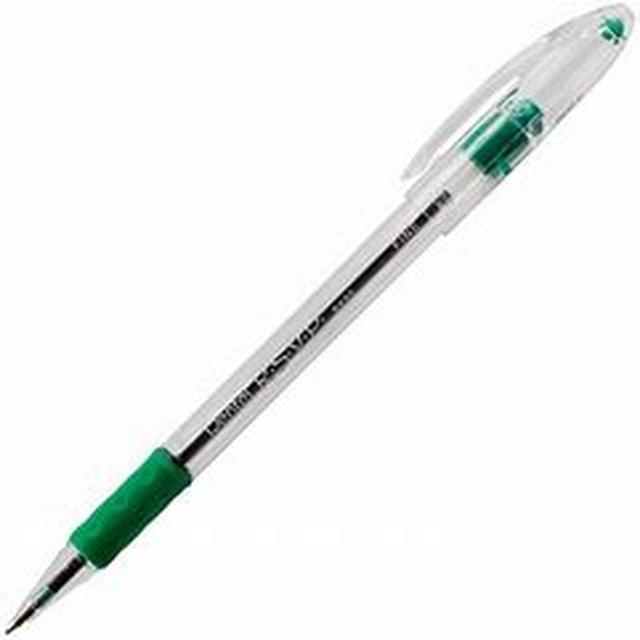pen: (8, 0, 618, 640)
